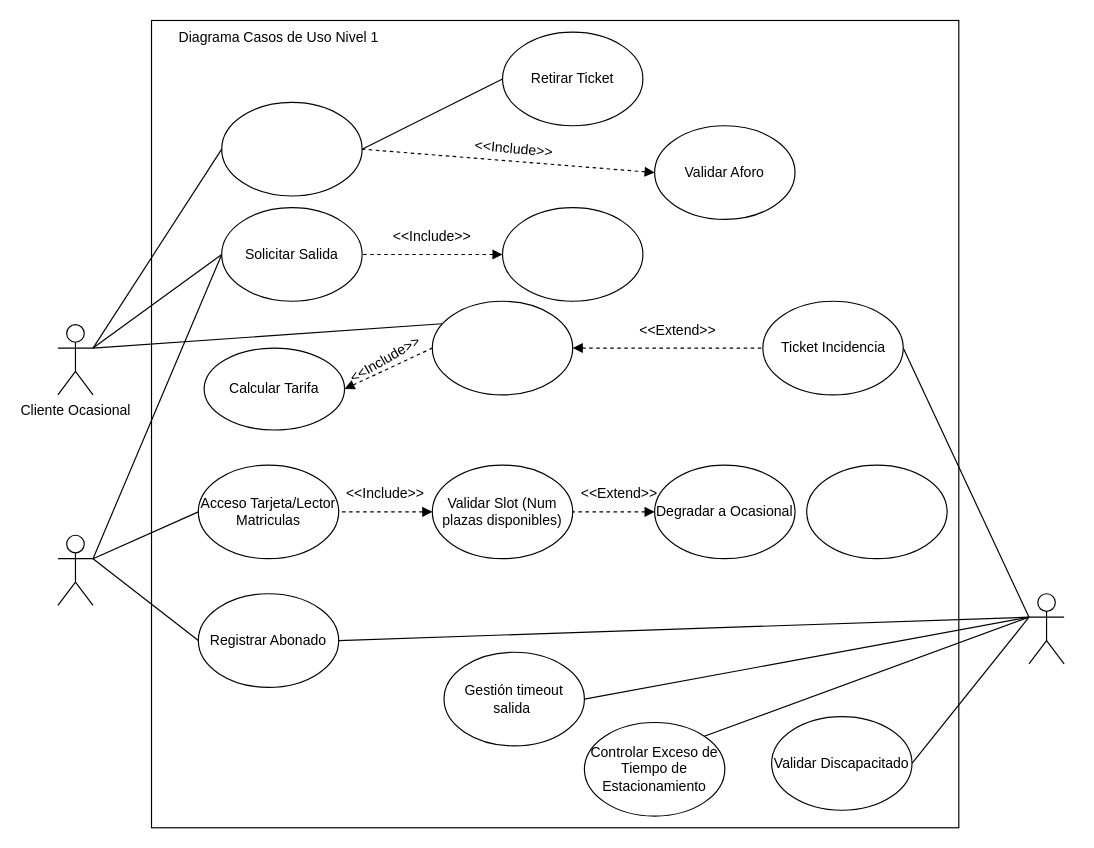
The diagram is 1094 pixels wide and 848 high, and some of its shapes have lost their labels. The shapes that lost their labels are listed below. From the top down, each one's box as (x1, y1, x2, y2) in pixels, then its label:
(221, 101, 362, 196): Solicitar Entarda
(501, 207, 643, 301): Validar Pago y Matricula
(431, 300, 573, 395): Pagar Estancia
(806, 464, 947, 559): Gestionar Impagos
(57, 534, 93, 605): Cliente Abonado
(1028, 593, 1064, 664): Operario
